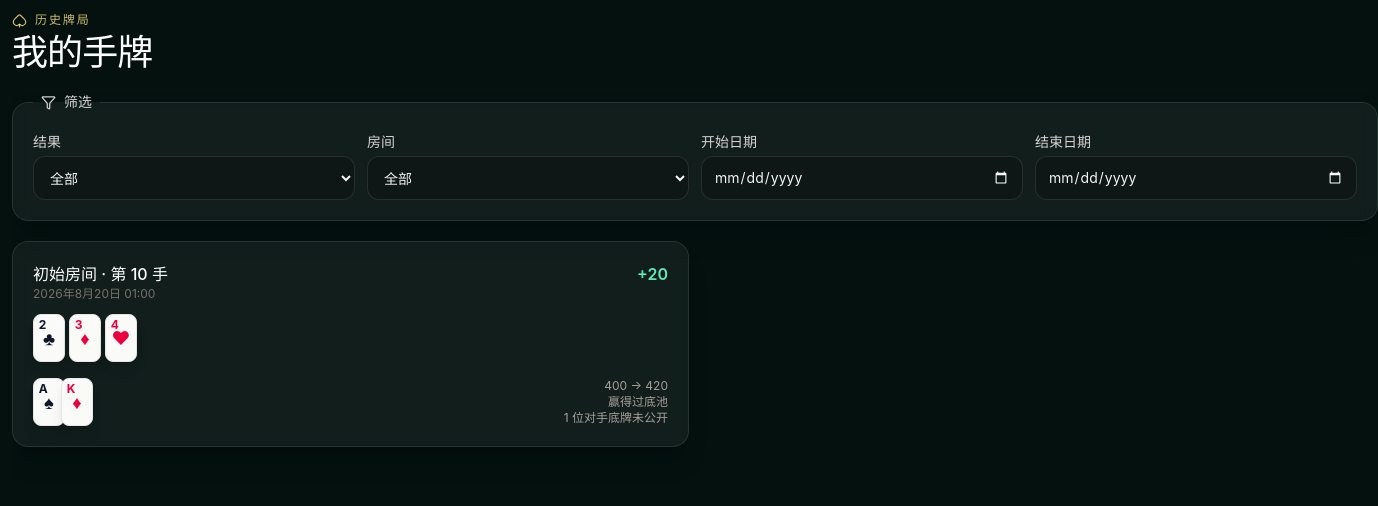
HandsPage history pagination and filters › ignores an older filter response that resolves after the current filter
Check: the text "初始房间 · 第 10 手" is shown, box [33,262,168,286]
Select "盈利" in the dropdown labelled "结果" at coordinates (194, 178), box [33,156,355,200]
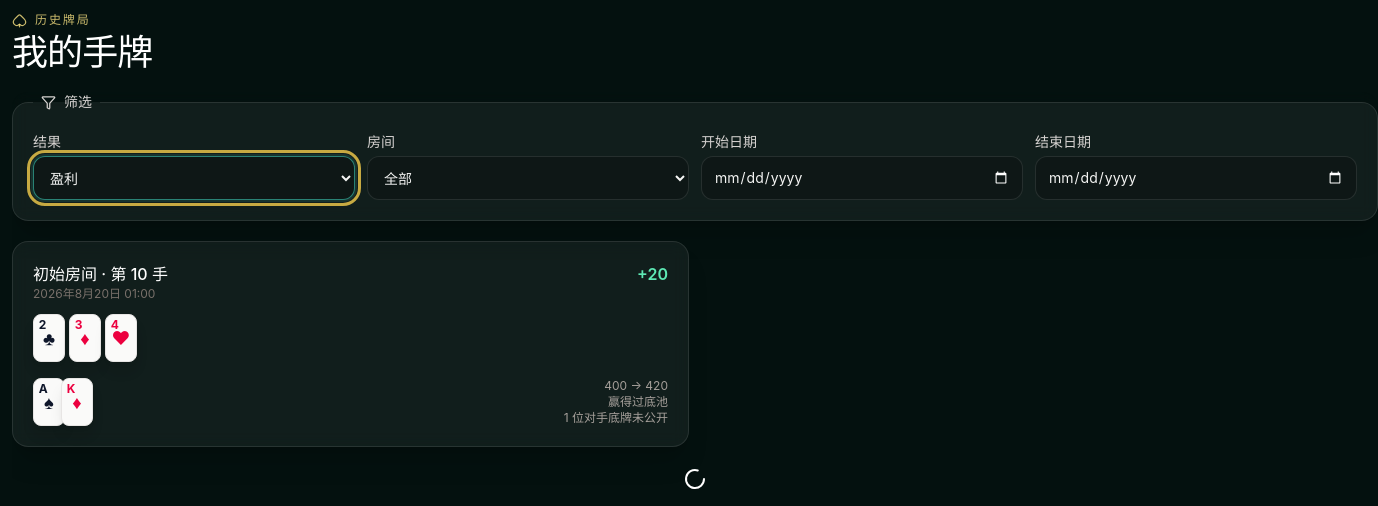
Select "亏损" in the dropdown labelled "结果" at coordinates (194, 178), box [33,156,355,200]
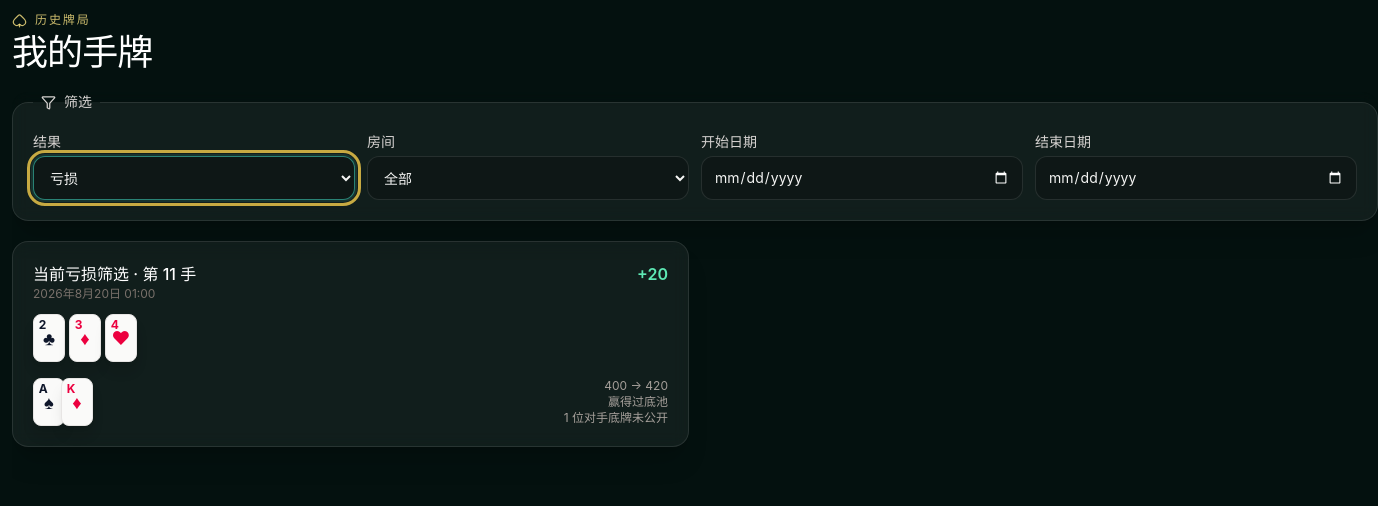
Check: the text "当前亏损筛选 · 第 11 手" is shown, box [33,262,196,286]
